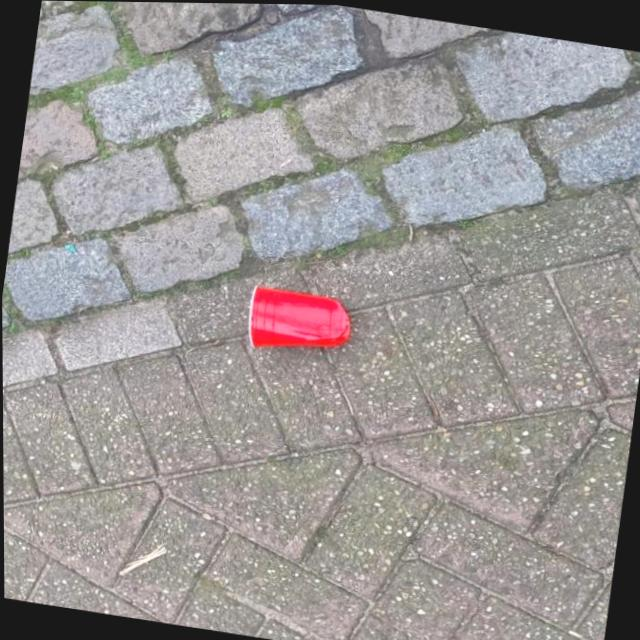Cup: (242, 281, 357, 362)
